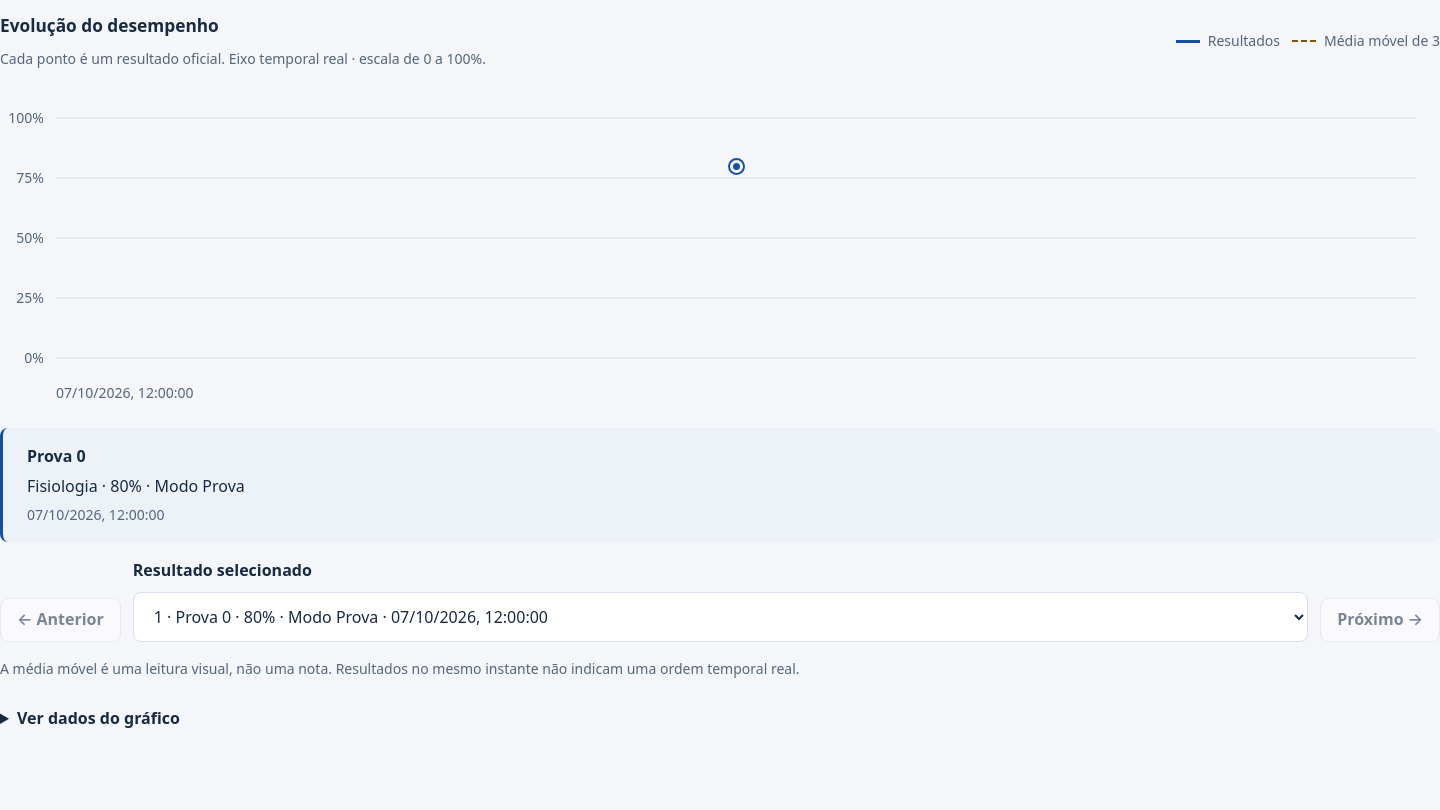
Test: representações acessíveis dos gráficos › um ponto e pontos empatados renderizam sem divisão por zero; tooltip equivalente a focus/hover
The width and height of the screenshot is (1440, 810).
Hover over the button named "Prova 0 · Fisiologia".
mouse_move(736, 166)  # box [714,144,758,188]
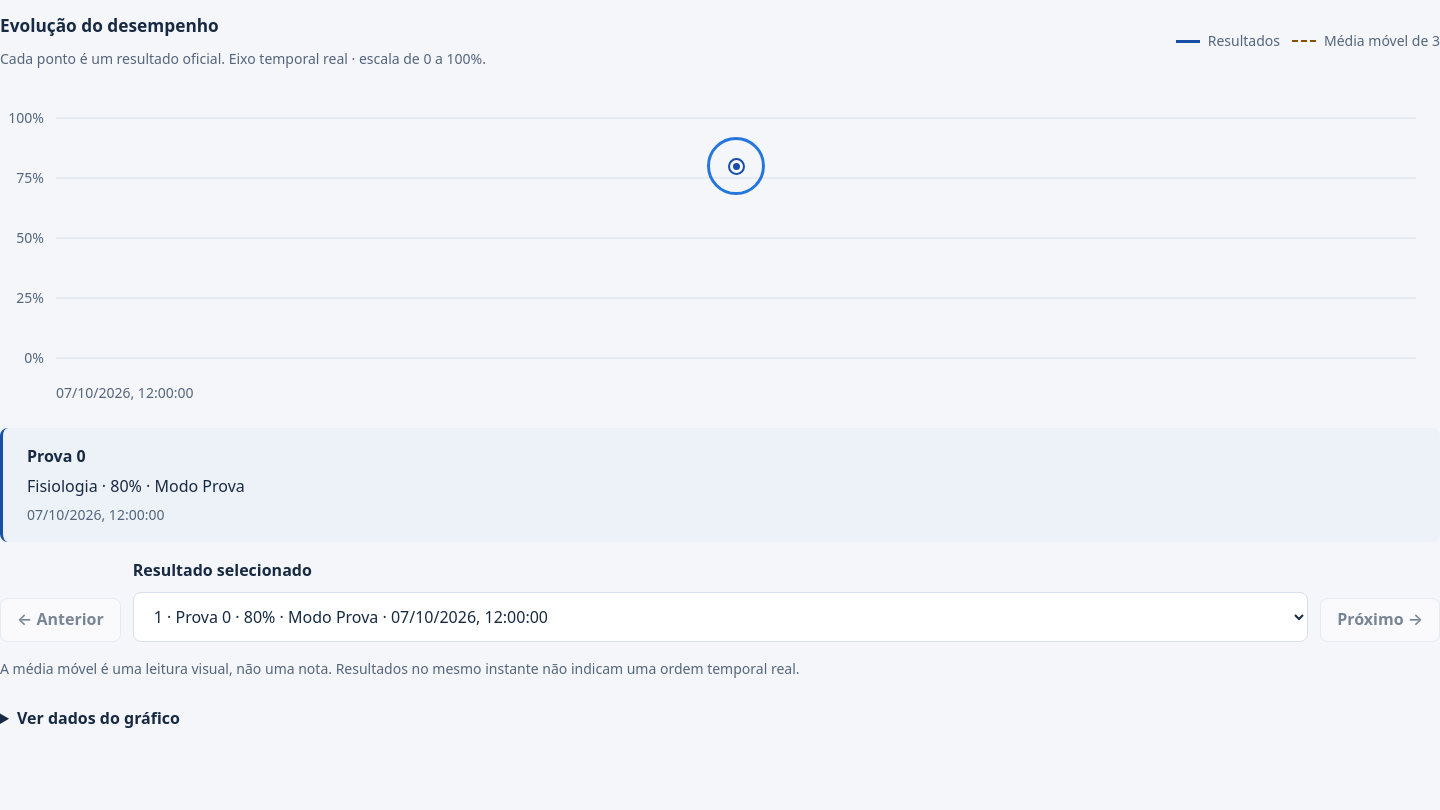
Expected: the message shows "Prova 0", [27,445,86,467]
Expected: the message shows "80% · Modo Prova", [0,428,1439,542]
Click the heading "Ver dados do gráfico".
click(98, 718)  # box [17,707,180,729]
(page scrolled)
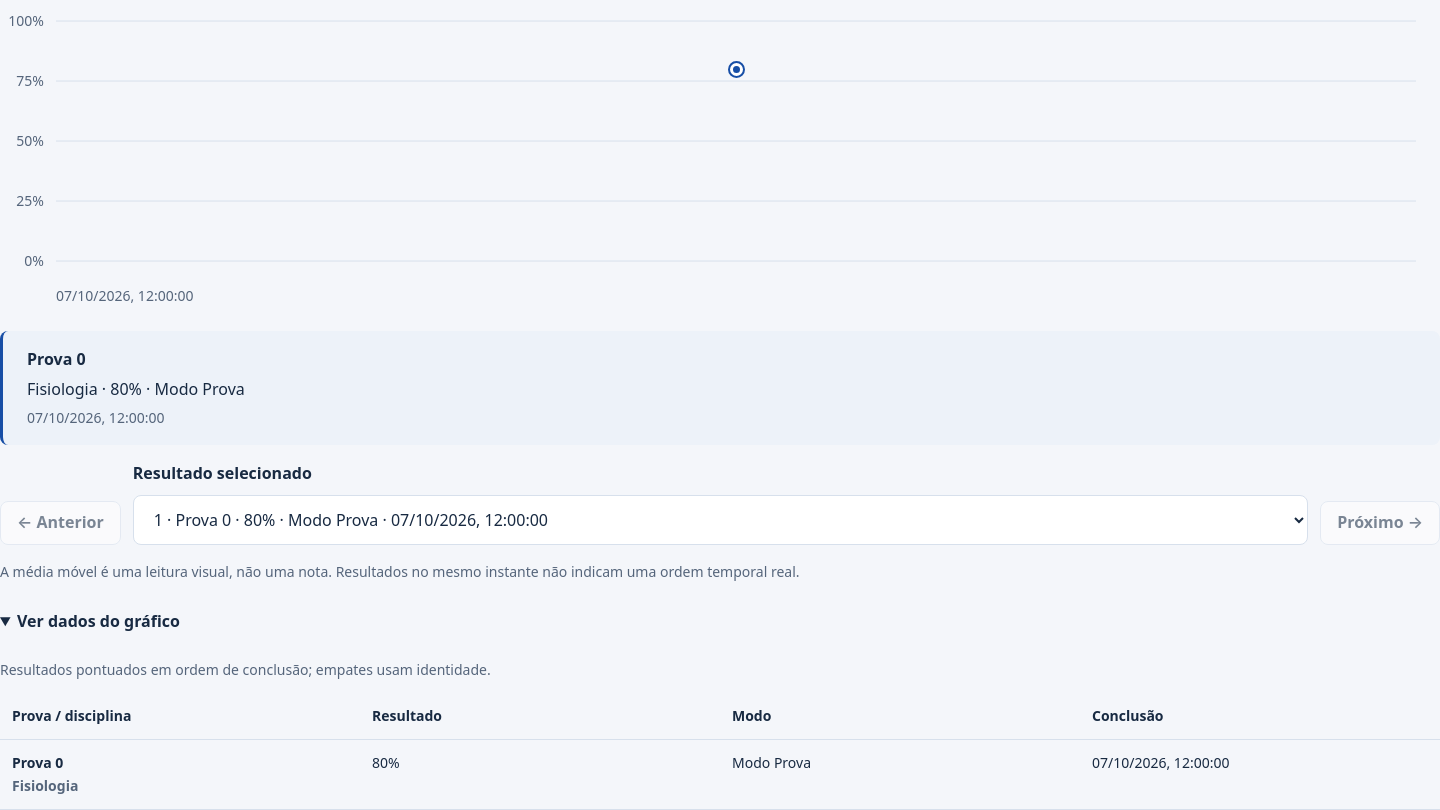
Now the table shows "Prova 0", box [12,753,63,772]
